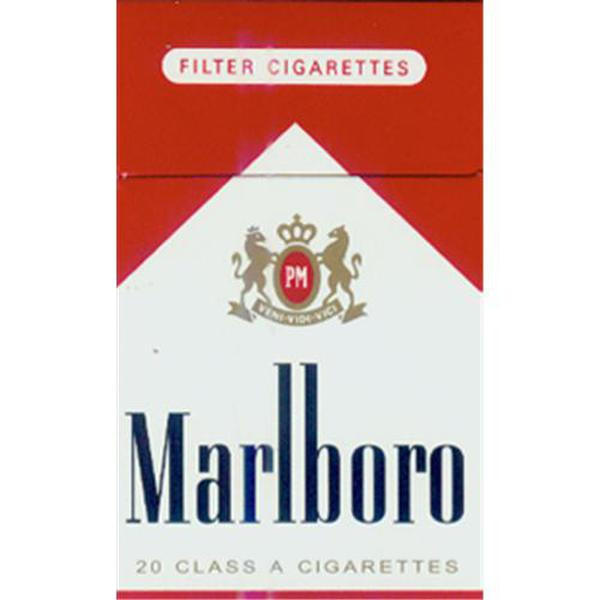marlboro_red: (118, 4, 484, 600)
